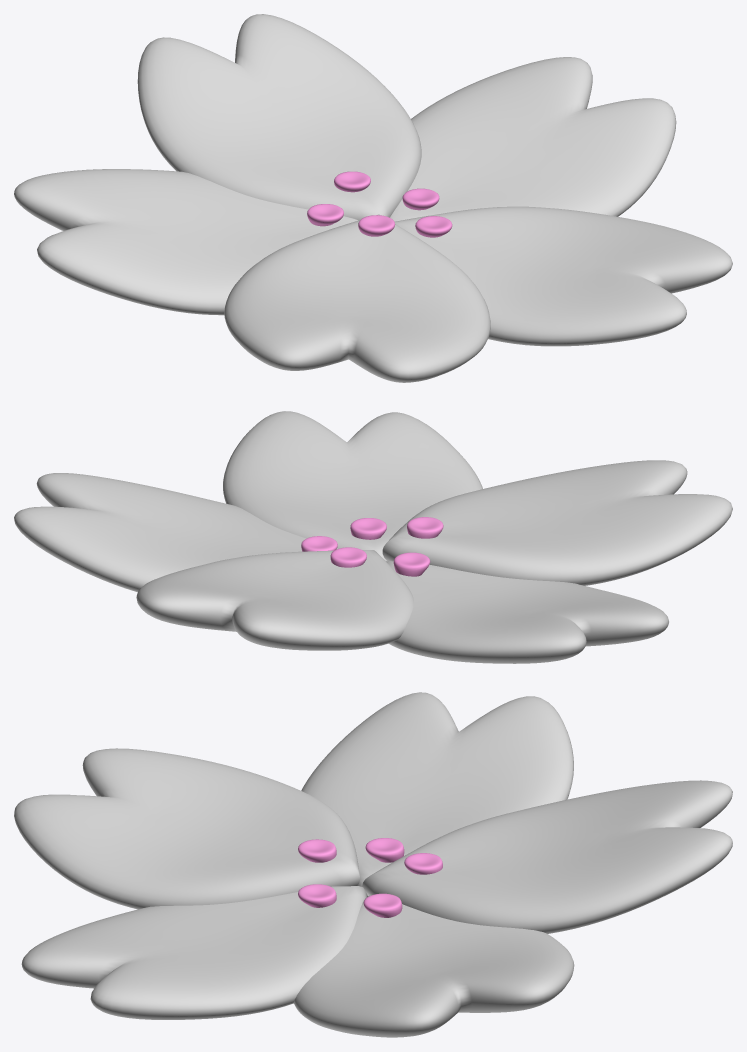
The model's file is sakura - コピー.fbx.
The picture shows the model from 3 angles, top to bottom: view 1: azimuth 30°, elevation 25°; view 2: azimuth 150°, elevation 25°; view 3: azimuth 270°, elevation 25°; orthographic projection. The views are drawn at different scales.
Visible parts, largest first — view 1: Cube, Cube.001, Cube.003, Cube.002, Cube.004, Sphere.004, Sphere.001, Sphere.003, Sphere.002, Sphere; view 2: Cube.003, Cube.002, Cube, Cube.001, Cube.004, Sphere.004, Sphere.002, Sphere.003, Sphere, Sphere.001; view 3: Cube.003, Cube, Cube.002, Cube.004, Cube.001, Sphere.004, Sphere.001, Sphere.002, Sphere.003, Sphere.
Part boxes in pixels (<box>): Cube: <box>137,14,421,220</box>; Cube.001: <box>390,57,676,221</box>; Cube.003: <box>224,214,490,382</box>; Cube.002: <box>394,206,732,346</box>; Cube.004: <box>14,169,358,315</box>; Sphere.004: <box>307,204,343,226</box>; Sphere.001: <box>402,188,439,210</box>; Sphere.003: <box>358,215,395,236</box>; Sphere.002: <box>415,216,452,237</box>; Sphere: <box>334,171,370,192</box>; Cube.003: <box>382,460,732,585</box>; Cube.002: <box>223,411,482,561</box>; Cube: <box>136,550,413,650</box>; Cube.001: <box>14,473,337,592</box>; Cube.004: <box>386,561,668,663</box>; Sphere.004: <box>393,552,430,576</box>; Sphere.002: <box>350,518,386,539</box>; Sphere.003: <box>407,517,443,538</box>; Sphere: <box>330,547,366,567</box>; Sphere.001: <box>301,536,337,551</box>; Cube.003: <box>14,748,359,909</box>; Cube: <box>362,780,732,933</box>; Cube.002: <box>21,886,367,1019</box>; Cube.004: <box>301,692,573,896</box>; Cube.001: <box>293,895,574,1037</box>; Sphere.004: <box>365,838,404,862</box>; Sphere.001: <box>363,893,402,917</box>; Sphere.002: <box>298,884,336,907</box>; Sphere.003: <box>298,839,336,862</box>; Sphere: <box>404,853,442,874</box>.
Bounding box in the file's own units: 510 × 89.79 × 479.
